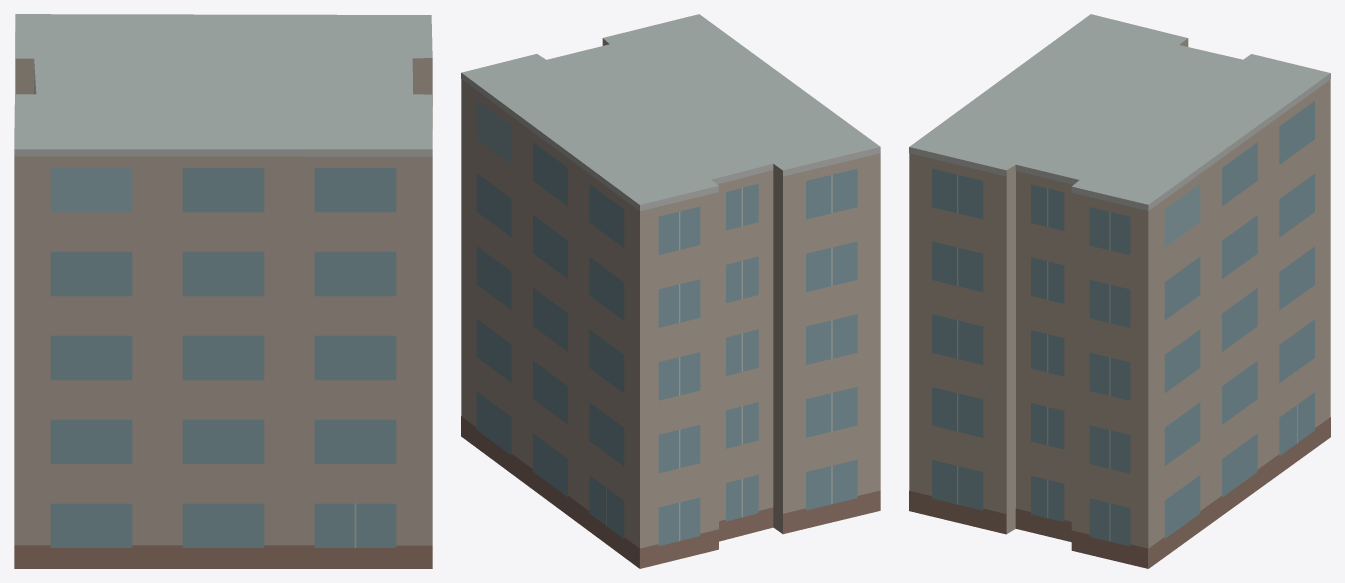
The model's file is survey-upis-32874334.glb.
3 renders of one model, left to right at view 1: azimuth 30°, elevation 25°; view 2: azimuth 150°, elevation 25°; view 3: azimuth 270°, elevation 25°, orthographic. The views are drawn at different scales.
Parts seen in each view (by area): view 1: survey-upis-32874334.tmp; view 2: survey-upis-32874334.tmp; view 3: survey-upis-32874334.tmp.
Part boxes in pixels (x1,y1,x2,y2): survey-upis-32874334.tmp: (14, 14, 432, 568); survey-upis-32874334.tmp: (461, 14, 880, 568); survey-upis-32874334.tmp: (909, 14, 1330, 568).
Bounding box in the file's own units: 15.99 × 14.22 × 14.93.
